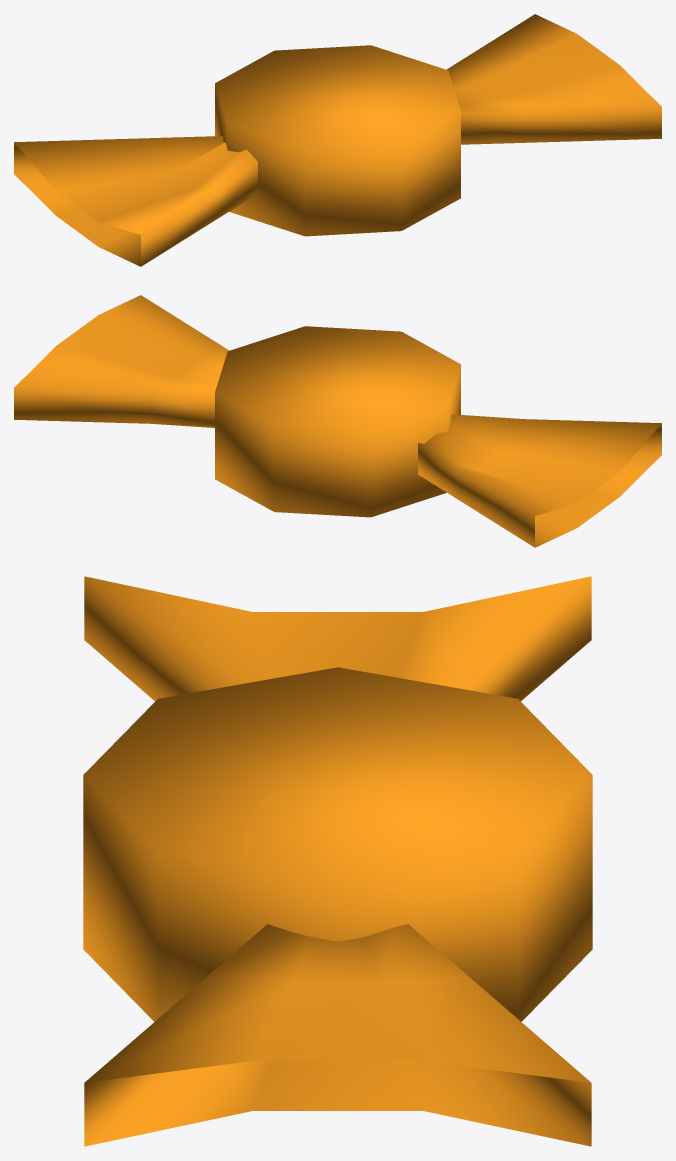
The model's file is loose tooth remover candy orange.fbx.
The picture shows the model from 3 angles, top to bottom: view 1: azimuth 30°, elevation 25°; view 2: azimuth 150°, elevation 25°; view 3: azimuth 270°, elevation 25°; orthographic projection. The views are drawn at different scales.
Visible parts, largest first — view 1: Circle; view 2: Circle; view 3: Circle.
Part boxes in pixels (box(x1,y1,x2,y2)): Circle: box(14, 14, 661, 266); Circle: box(14, 295, 661, 547); Circle: box(83, 576, 592, 1146).
Bounding box in the file's own units: 473 × 75.67 × 200.
